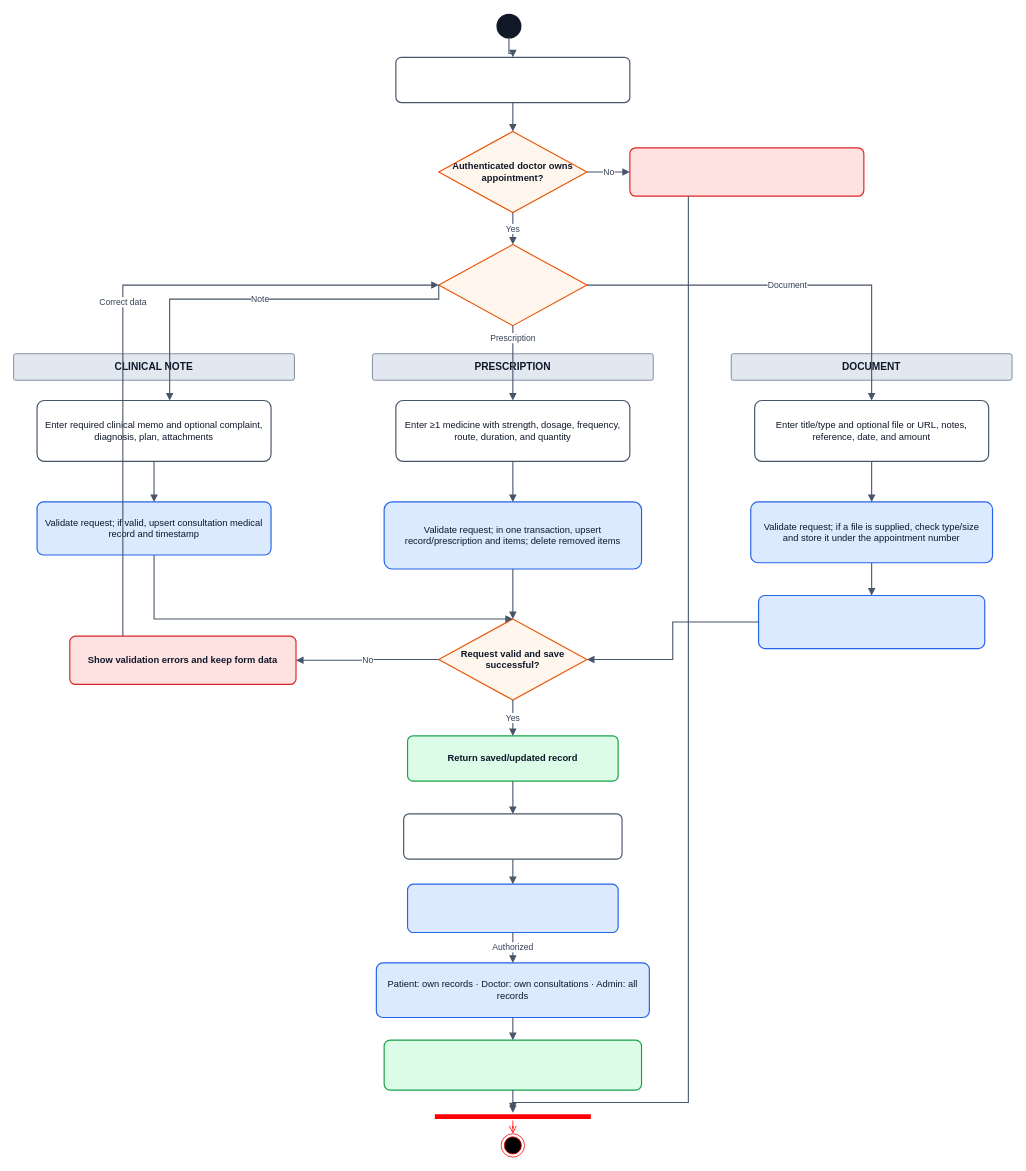
This 1026x1171 diagram has some shape labels left out. Here are the shapes that lost their labels. From the top down, the centre of each, then its label:
the point at 512,79: Doctor opens an assigned appointment
the point at 746,171: Return forbidden or appointment-not-found error
the point at 512,285: Documentation type?
the point at 871,622: Append attachment metadata to consultation medical record
the point at 512,836: Patient, doctor, or admin opens medical records
the point at 512,908: Determine role and apply record scope
the point at 512,1064: Aggregate prescriptions, diagnostics, notes, uploads, and payment invoices
